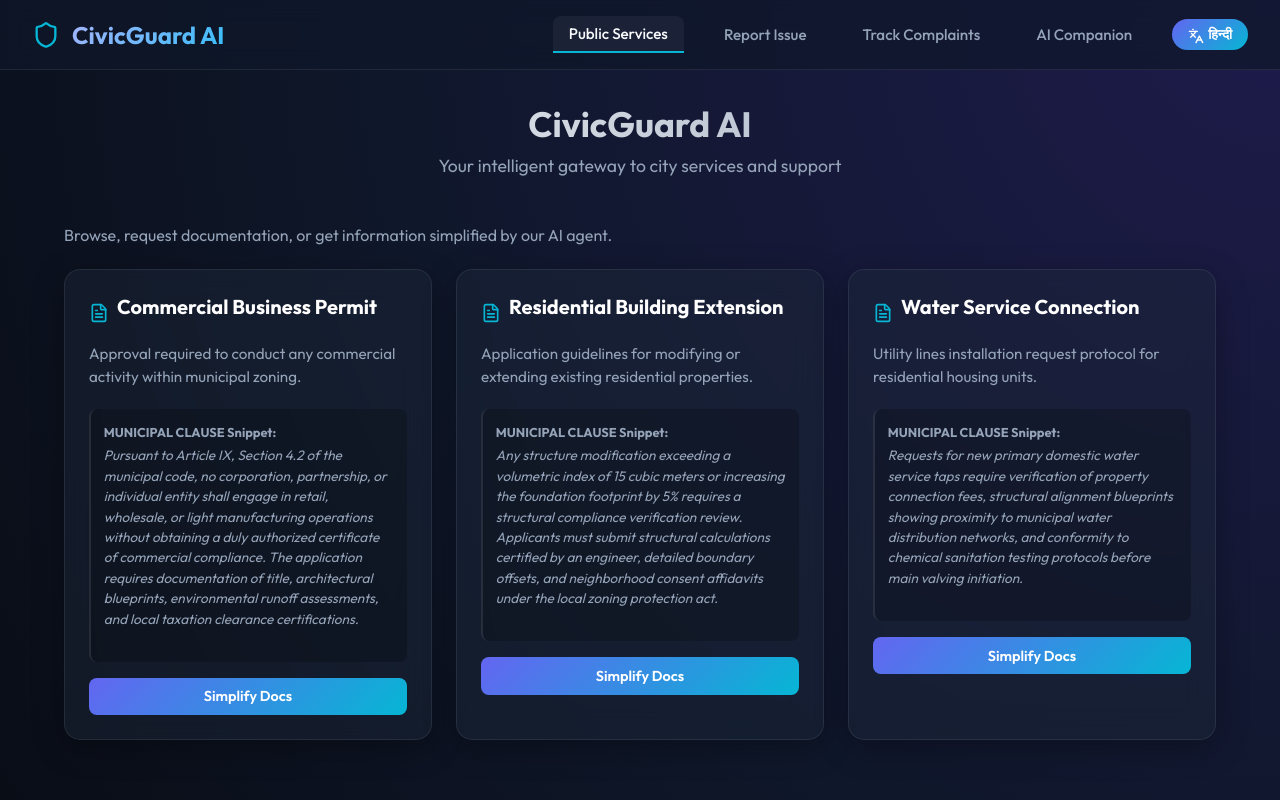
Language toggle › can toggle back – button shows हिन्दी again after two toggles
Switch to Hindi
Click the button named "switch language to hindi". click: (1210, 35)
box: [1172,19,1248,50]
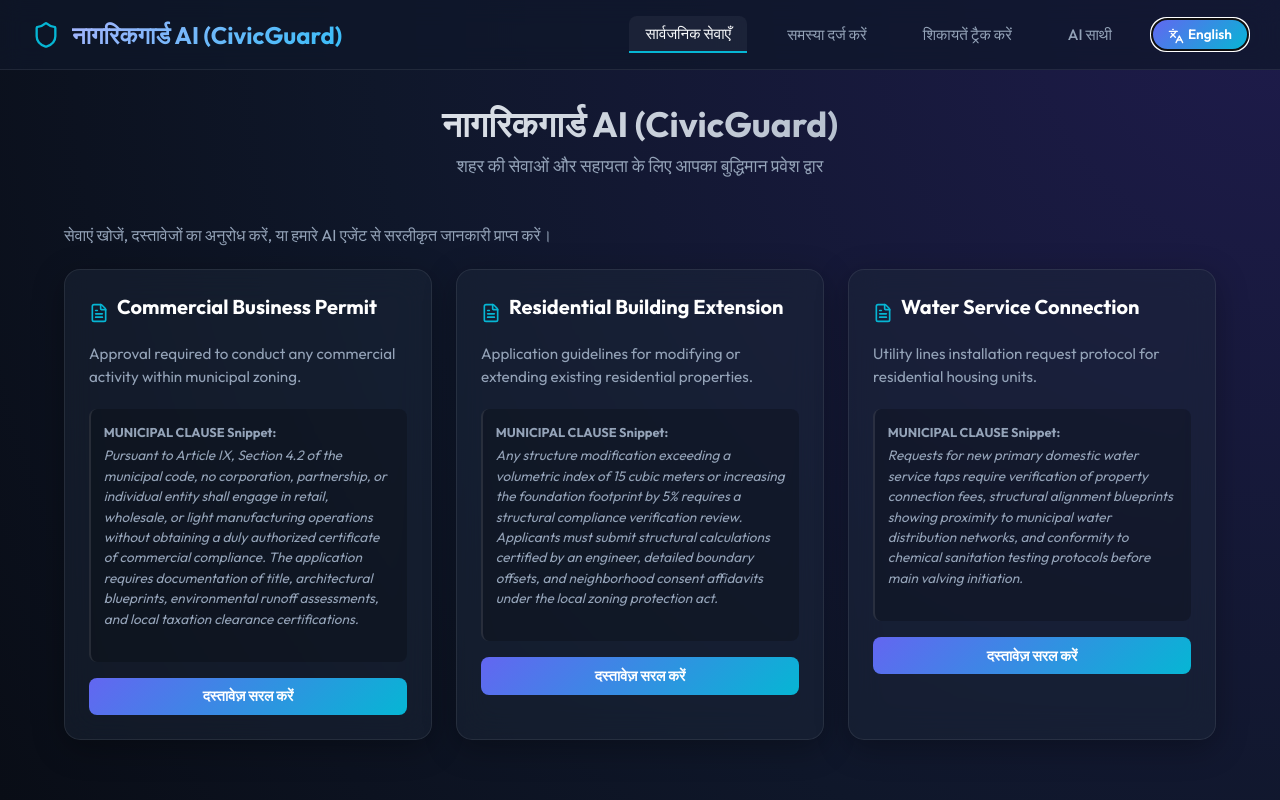
Result: the button "English" is shown
Click the button with aria-label "switch language to english". click: (1200, 35)
box: [1152,19,1248,50]
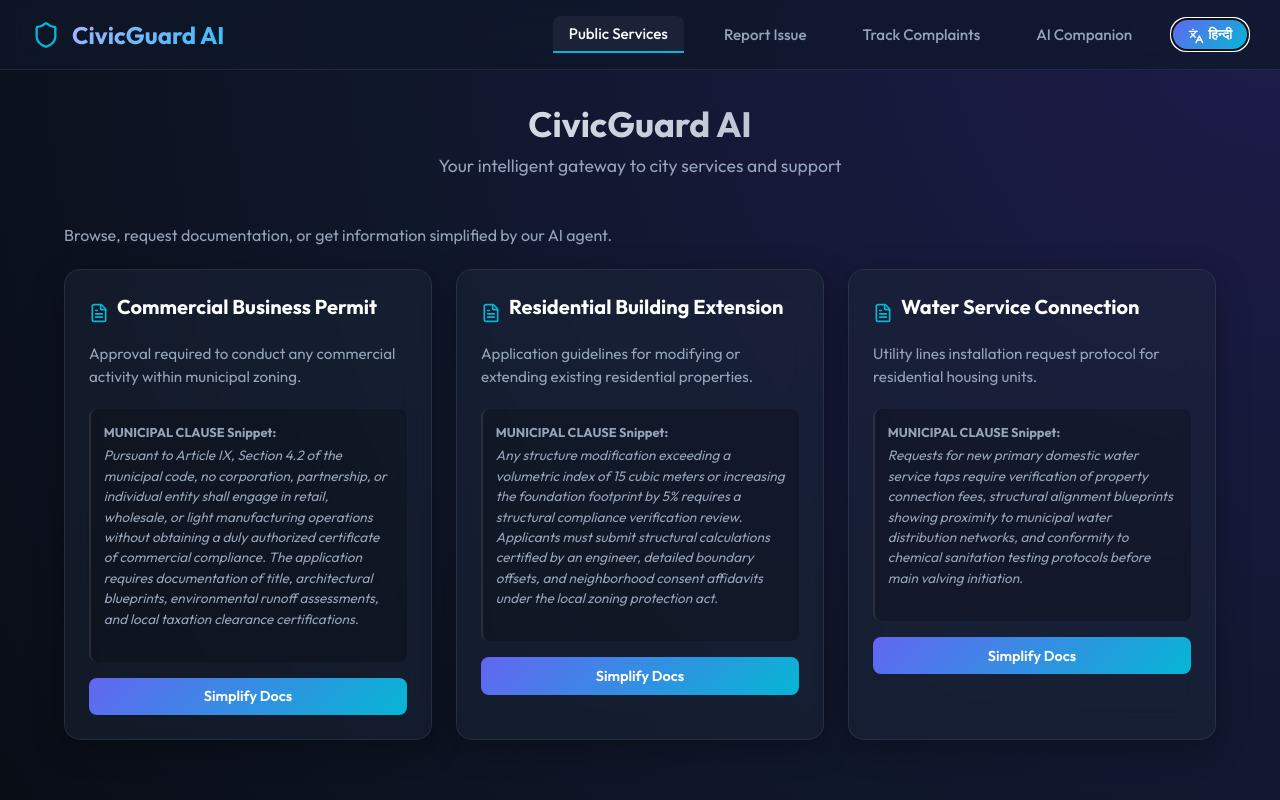
Result: the button "हिन्दी" is shown at [1172,19,1248,50]
